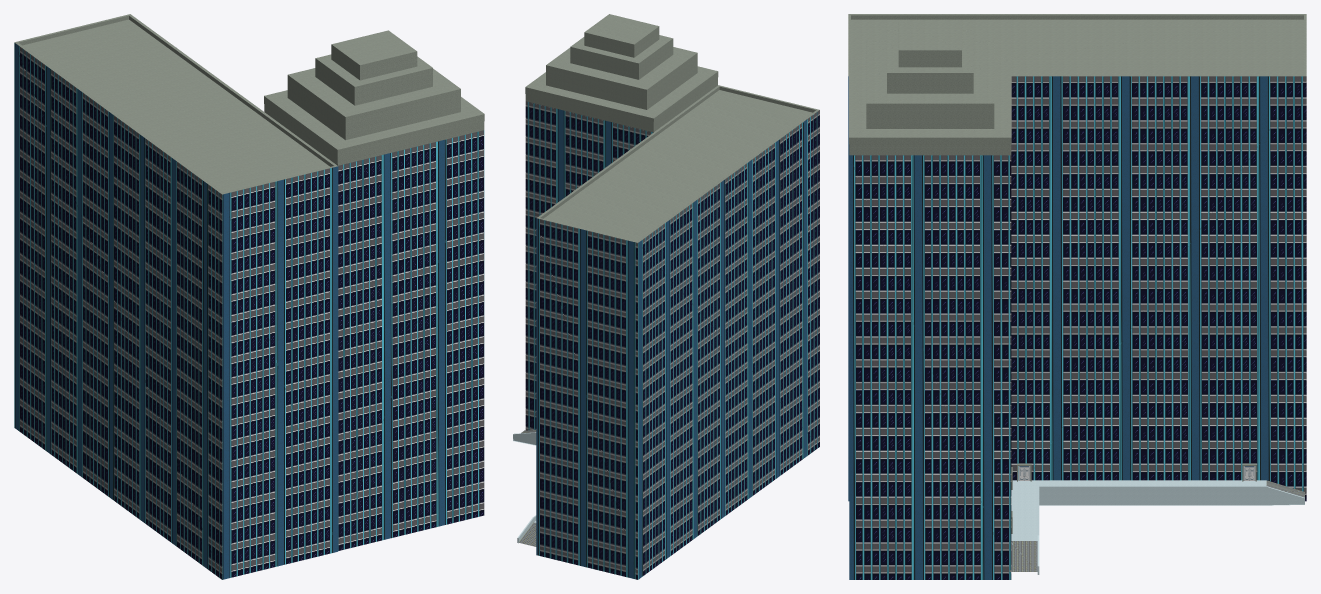
File: BUILDING BIG.fbx
The picture shows the model from 3 angles, left to right: view 1: azimuth 30°, elevation 25°; view 2: azimuth 150°, elevation 25°; view 3: azimuth 270°, elevation 25°; orthographic projection. The views are drawn at different scales.
Parts seen in each view (by area): view 1: BUILDING_BIG; view 2: BUILDING_BIG; view 3: BUILDING_BIG.
Part boxes in pixels (x1=…): BUILDING_BIG: x1=14, y1=14, x2=484, y2=579; BUILDING_BIG: x1=513, y1=14, x2=819, y2=579; BUILDING_BIG: x1=848, y1=14, x2=1306, y2=579.
Size of the model in its own units: 5328 by 8835 by 7262.
